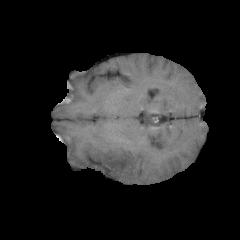glioma: (95, 144, 132, 177)
